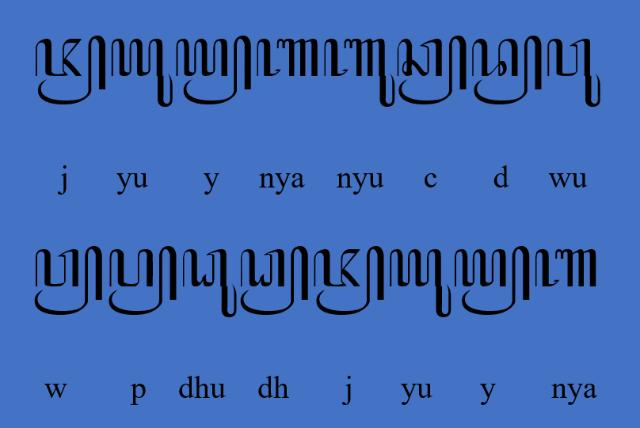-c: (397, 36, 467, 106)
-d: (472, 34, 544, 106)
-dh: (240, 244, 310, 318)
-j: (35, 34, 107, 106), (313, 246, 385, 316)
-p: (109, 245, 178, 317)
-w: (34, 246, 104, 316)
-y: (176, 34, 252, 106), (454, 246, 530, 316)
dhu: (181, 248, 237, 319)
ny1: (534, 248, 600, 290), (256, 38, 320, 78)
nyu1: (323, 35, 397, 107)
wu: (546, 38, 602, 108)
yu: (388, 249, 454, 319), (110, 38, 173, 108)
